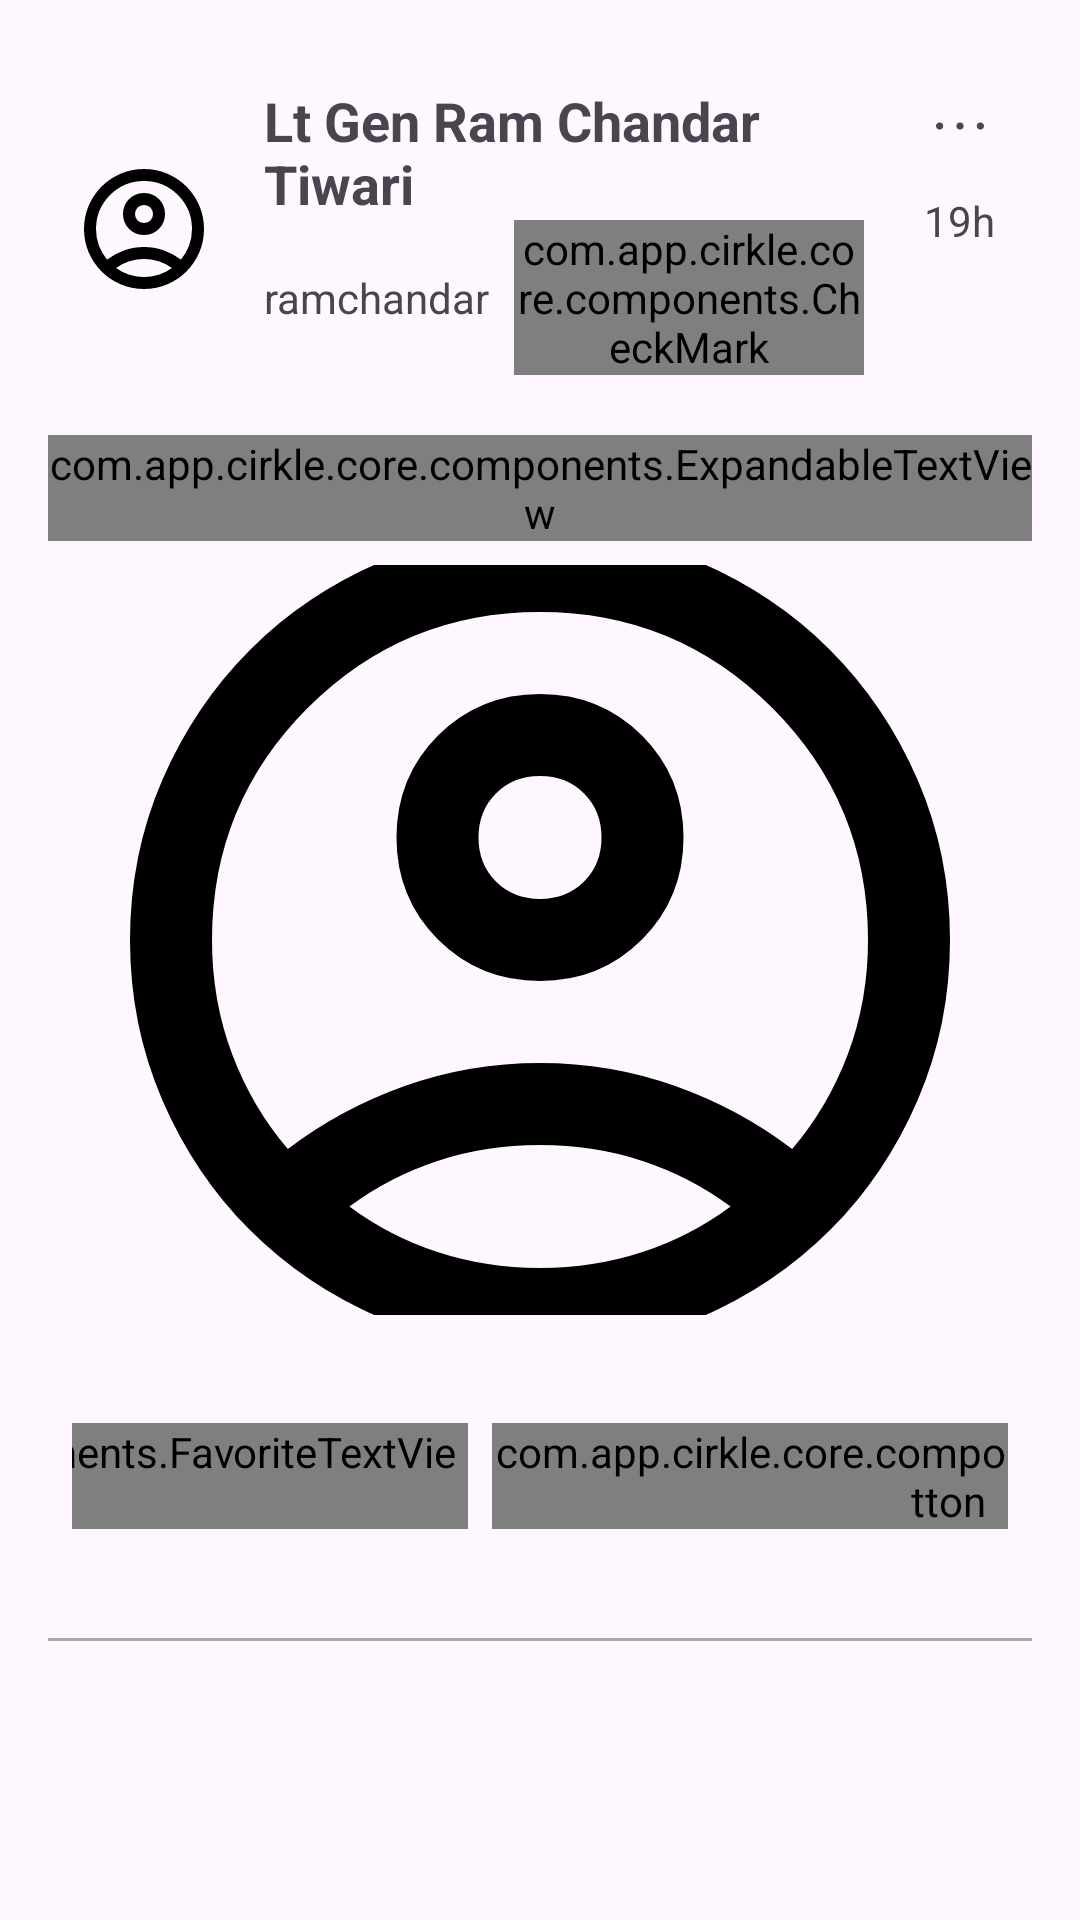

Icon click points for this 1080×1920 phone screenshot, format point (x, y):
more vert: point (960, 126)
